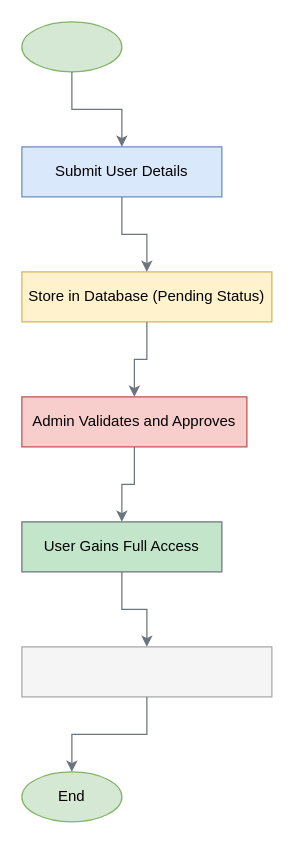
Image size: 294x844. Some labels were removed from this diagram. The shapes that lost their labels are listed below. From the top down, each one's box as (x1, y1, x2, y2) in pixels, then its label:
(21, 21, 122, 72): Start
(21, 646, 272, 697): Store Data in Blockchain and DB
